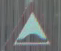Speed Breaker ahead: (8, 5, 56, 49)
